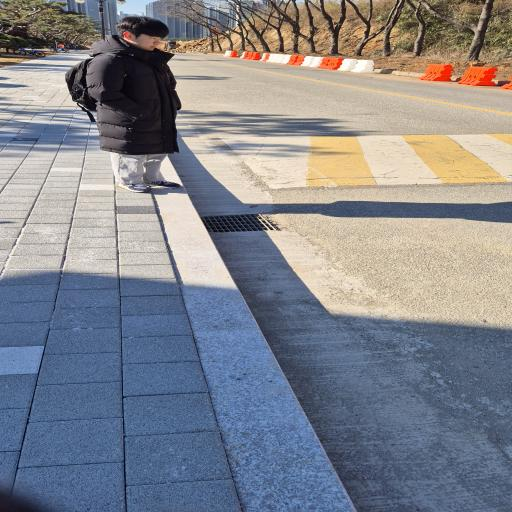drain: (201, 214, 278, 232)
